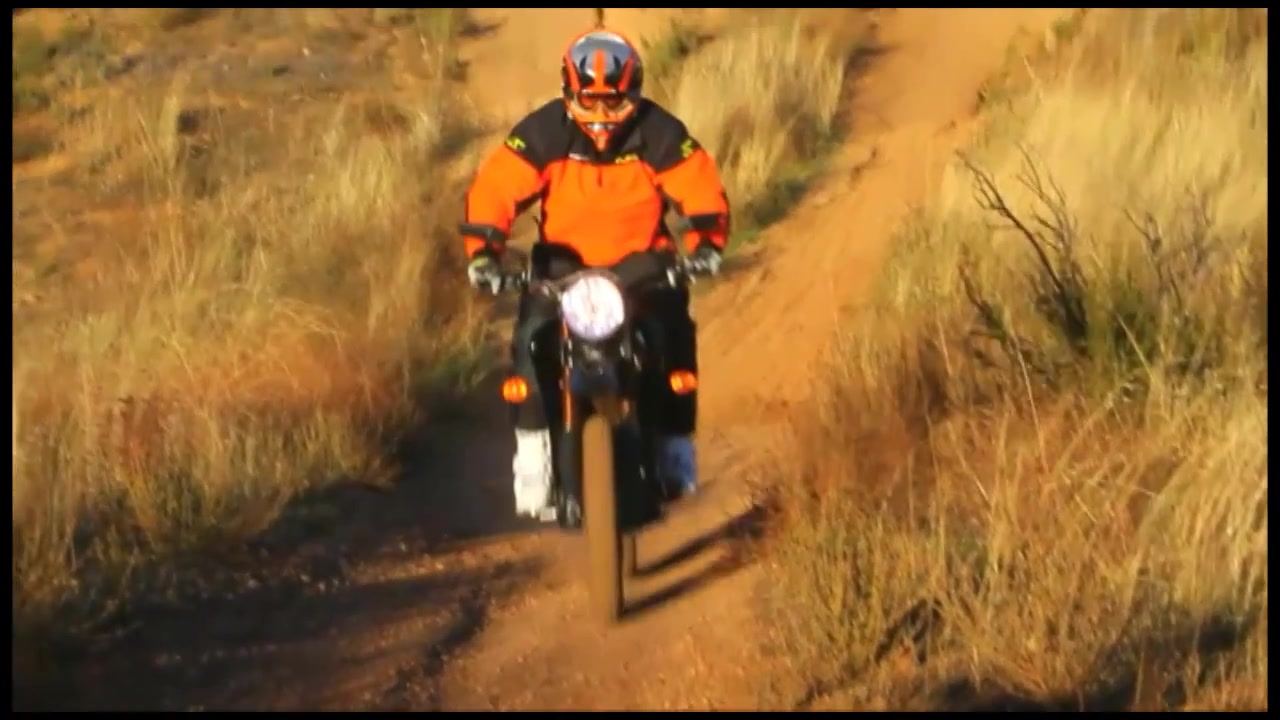motorbike: (458, 220, 721, 633)
